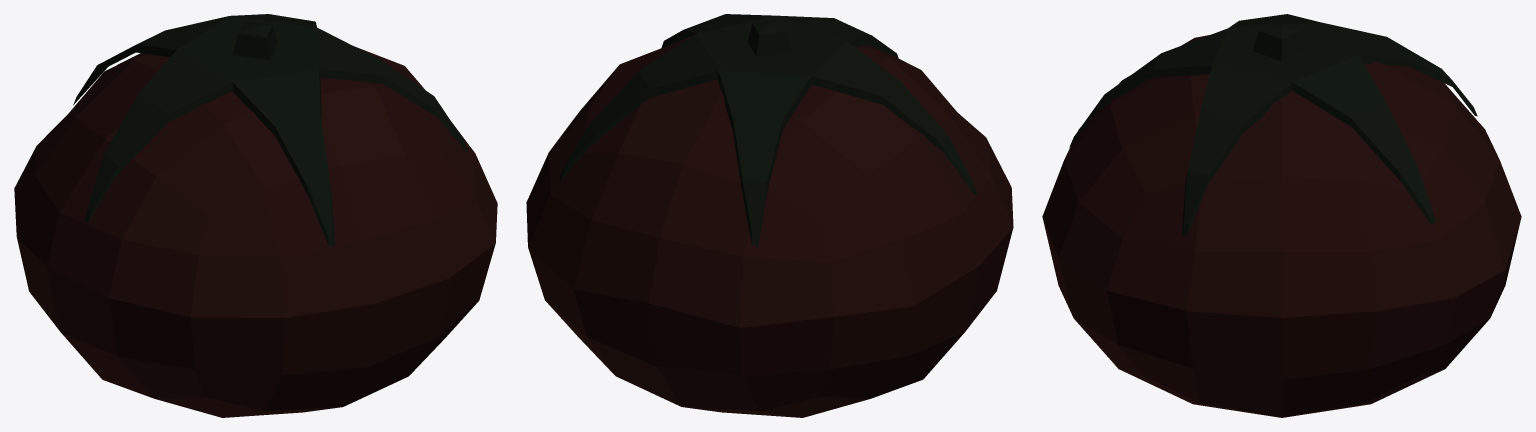
The model's file is Tomato.obj.
The picture shows the model from 3 angles, left to right: view 1: azimuth 30°, elevation 25°; view 2: azimuth 150°, elevation 25°; view 3: azimuth 270°, elevation 25°; orthographic projection.
Parts seen in each view (by area): view 1: Tomato_Cube.040; view 2: Tomato_Cube.040; view 3: Tomato_Cube.040.
Part boxes in pixels (box(x1,y1,x2,y2)): Tomato_Cube.040: box(14, 14, 497, 417); Tomato_Cube.040: box(526, 14, 1013, 417); Tomato_Cube.040: box(1042, 14, 1521, 417).
Bounding box in the file's own units: 0.7525 × 0.6264 × 0.7525.
